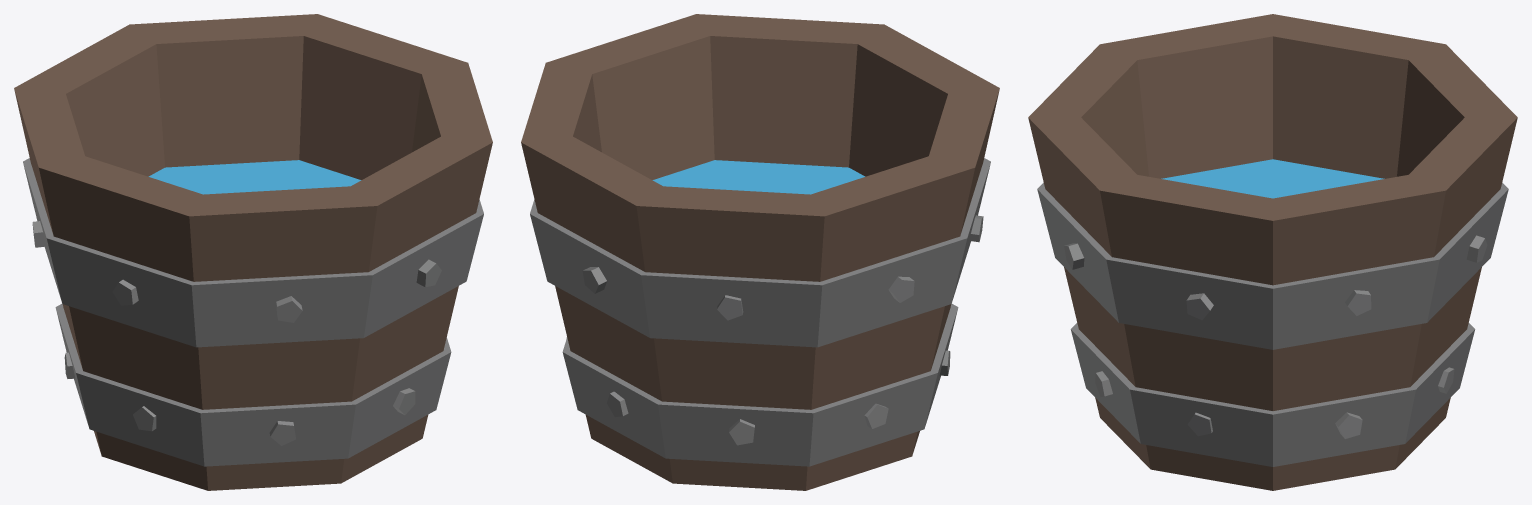
The model's file is bucket_Half_Greybox.fbx.
3 renders of one model, left to right at view 1: azimuth 30°, elevation 25°; view 2: azimuth 150°, elevation 25°; view 3: azimuth 270°, elevation 25°, orthographic.
Parts seen in each view (by area): view 1: Pail, Plane_Half; view 2: Pail, Plane_Half; view 3: Pail, Plane_Half.
Part boxes in pixels (bbox=[...]): Pail: bbox=[14, 14, 492, 490]; Plane_Half: bbox=[148, 160, 361, 194]; Pail: bbox=[521, 14, 999, 490]; Plane_Half: bbox=[652, 160, 865, 194]; Pail: bbox=[1028, 14, 1517, 490]; Plane_Half: bbox=[1161, 159, 1384, 198].
Bounding box in the file's own units: 0.9898 × 0.6701 × 0.9898.
